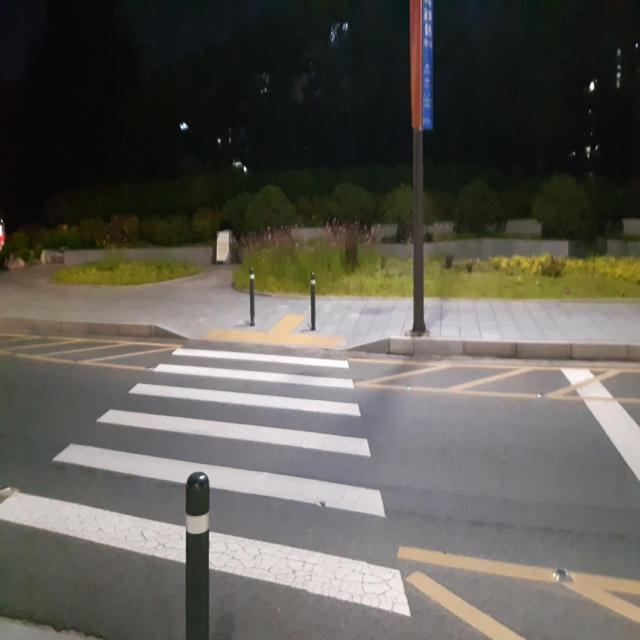횡단보도: (0, 342, 413, 625)
